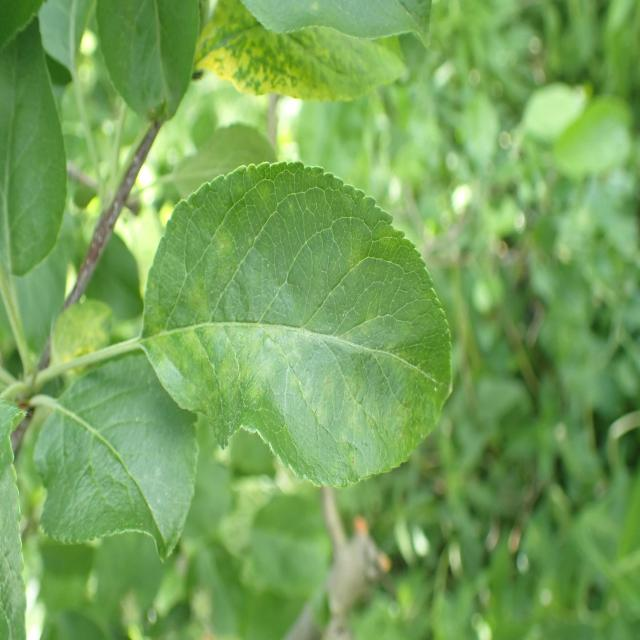scab: (153, 198, 441, 450)
